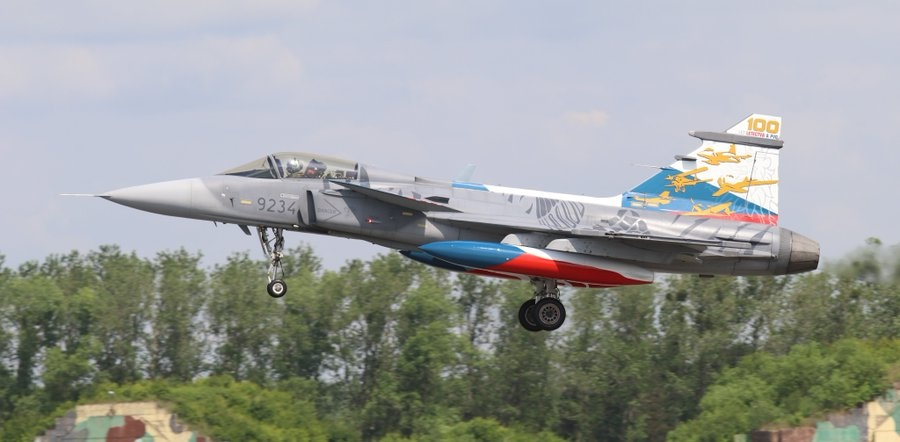JAS39: (59, 112, 821, 331)
